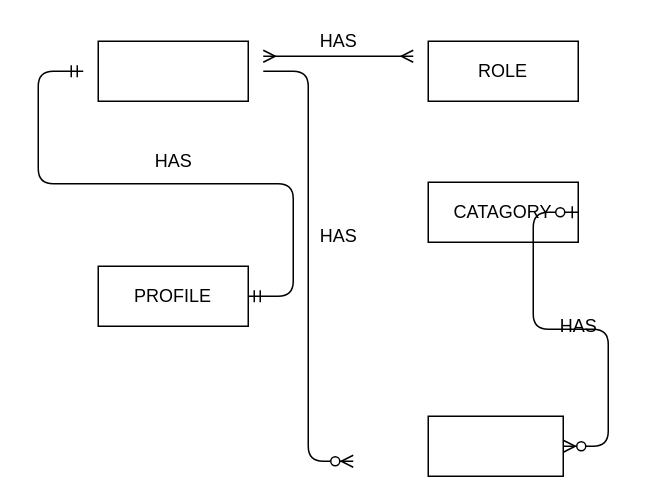
Image size: 648x503. Some labels were removed from this diagram. The box of each missing label's shape, as (x1, y1, x2, y2) in pixels:
POST: (427, 415, 563, 476)
USER: (97, 40, 248, 101)
